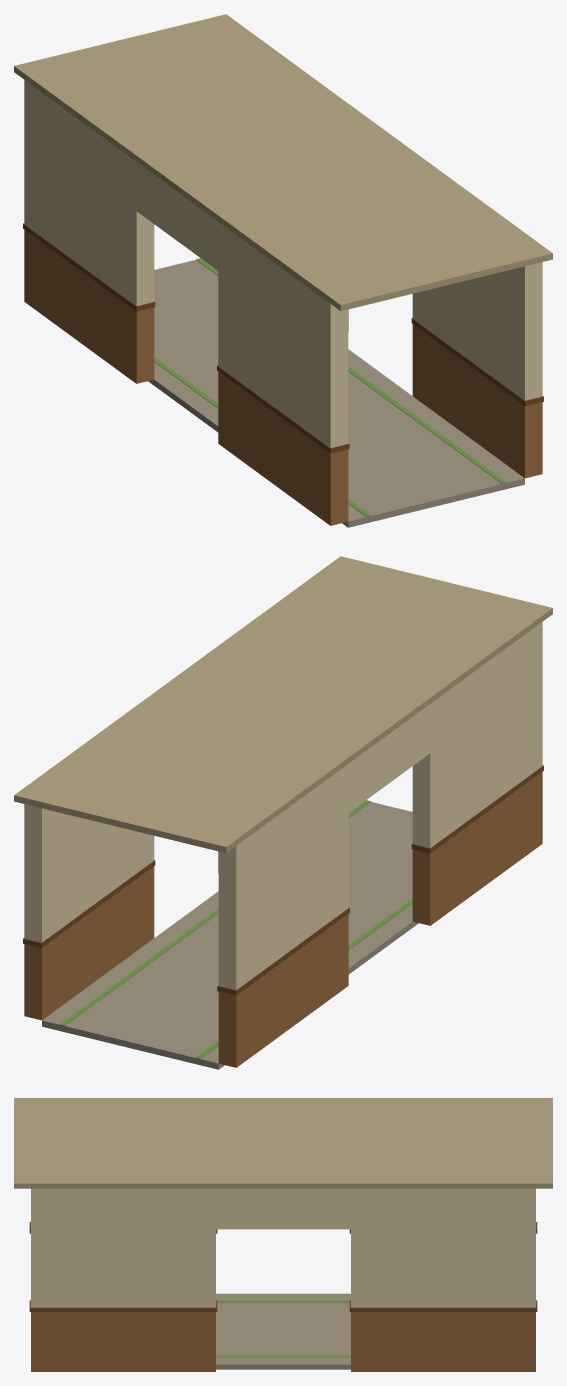
File: room_shared_hall_straight.glb
3 renders of one model, top to bottom at view 1: azimuth 30°, elevation 25°; view 2: azimuth 150°, elevation 25°; view 3: azimuth 270°, elevation 25°, orthographic. The views are drawn at different scales.
Parts seen in each view (by area): view 1: room_shared_hall_straight; view 2: room_shared_hall_straight; view 3: room_shared_hall_straight.
Part boxes in pixels (x1,y1,x2,y2): room_shared_hall_straight: (14, 14, 552, 527); room_shared_hall_straight: (14, 556, 552, 1069); room_shared_hall_straight: (14, 1098, 552, 1371).
Size of the model in its own units: 3.62 by 3.8 by 9.6.
1 material, 1 textured.
